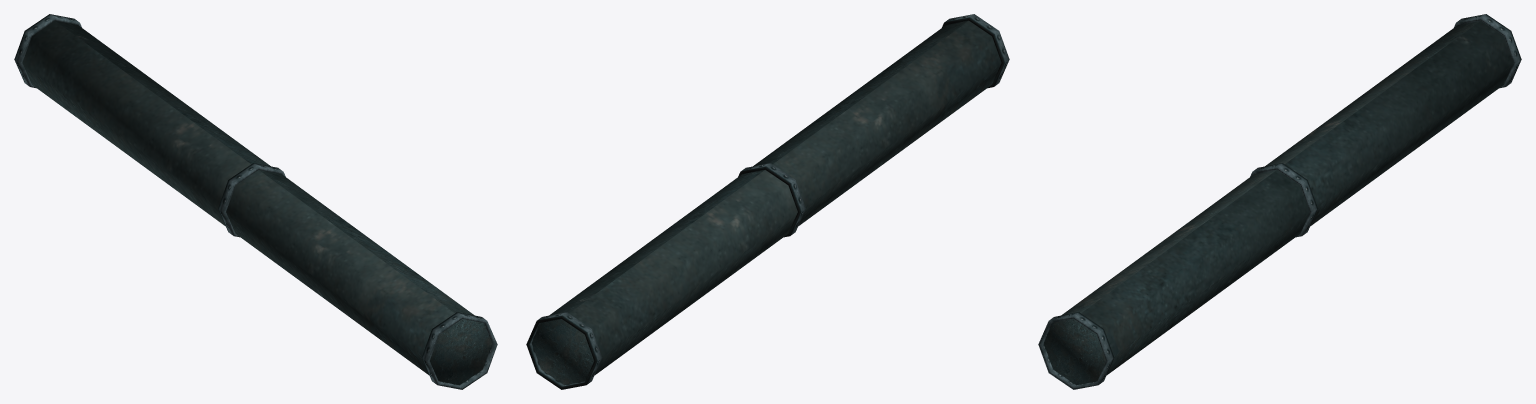
The model's file is pipe medium I.glb.
3 renders of one model, left to right at view 1: azimuth 30°, elevation 25°; view 2: azimuth 150°, elevation 25°; view 3: azimuth 330°, elevation 25°, orthographic.
Visible parts, largest first — view 1: pipe.017; view 2: pipe.017; view 3: pipe.017.
Part boxes in pixels (left/top/right/bottom): pipe.017: left=14, top=14, right=497, bottom=389; pipe.017: left=526, top=14, right=1009, bottom=389; pipe.017: left=1038, top=14, right=1521, bottom=389.
Size of the model in its own units: 0.4 by 0.4 by 4.05.
Materials: 1 (1 with a texture image).
